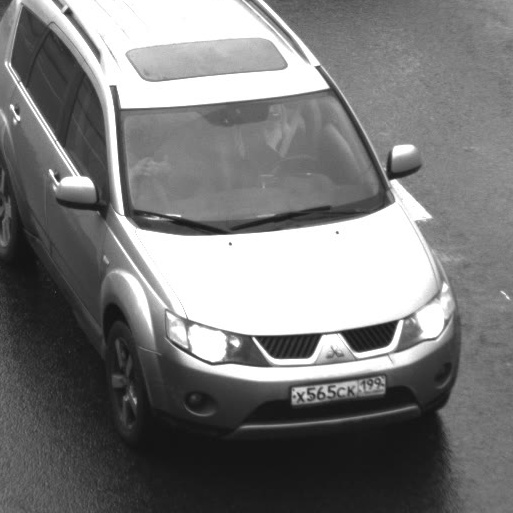plate: (280, 364, 394, 413)
